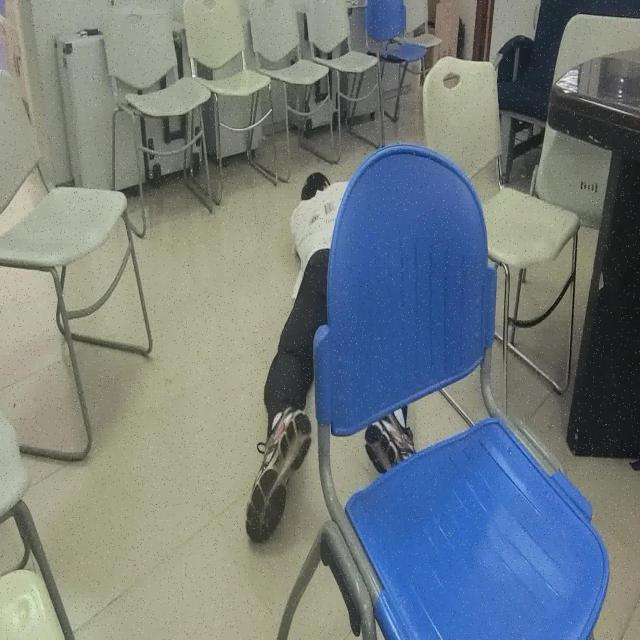fall: (245, 169, 418, 548)
